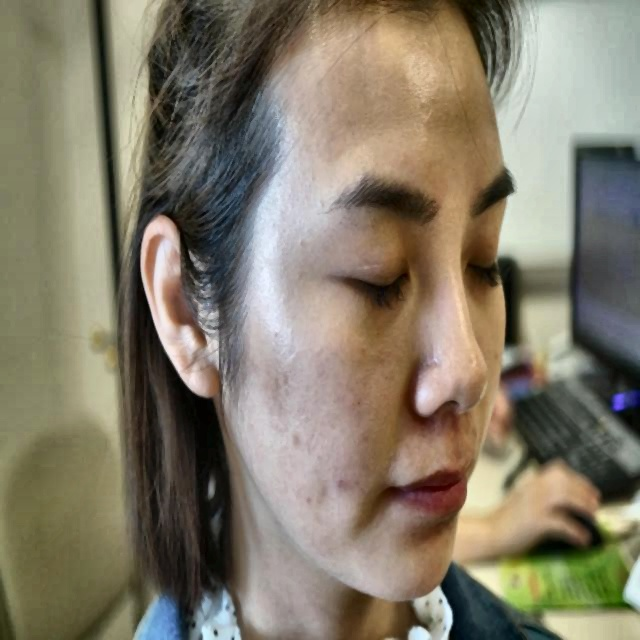comedone: (333, 467, 352, 501)
